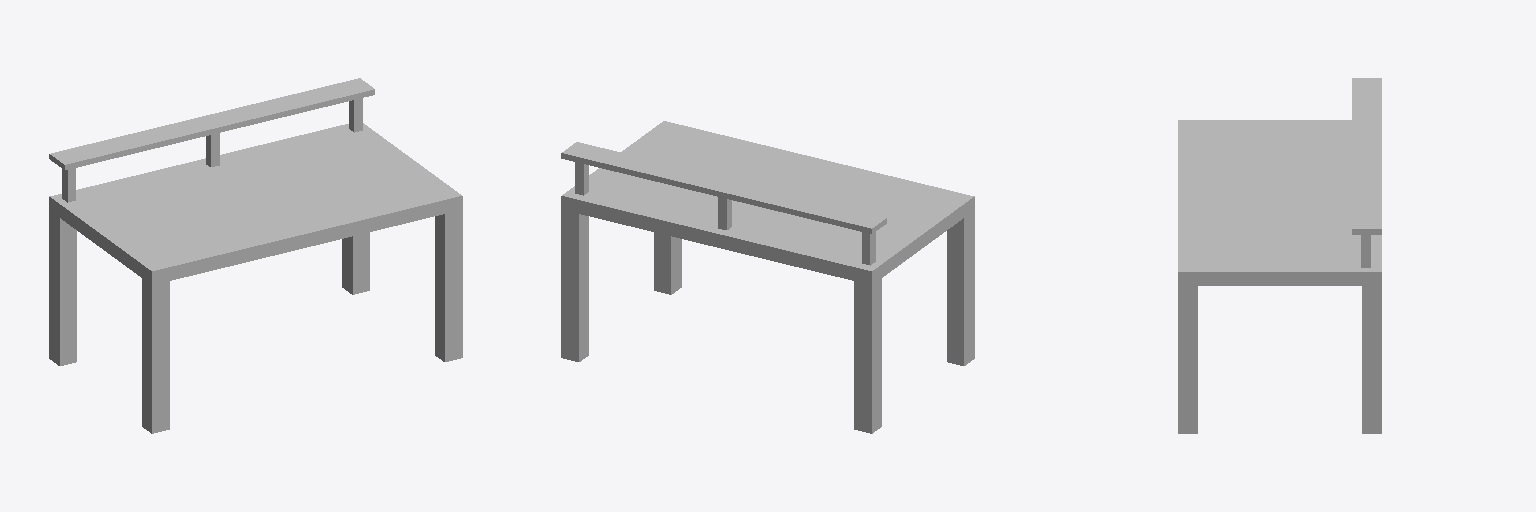
File: Workbench.obj
The picture shows the model from 3 angles: view 1: azimuth 30°, elevation 25°; view 2: azimuth 150°, elevation 25°; view 3: azimuth 270°, elevation 25°; orthographic projection.
Parts seen in each view (by area): view 1: Leg; view 2: Leg; view 3: Leg.
Part boxes in pixels (bbox=[...]): Leg: bbox=[49, 78, 462, 433]; Leg: bbox=[561, 121, 974, 433]; Leg: bbox=[1178, 78, 1381, 433].
Size of the model in its own units: 1.75 by 1.1 by 1.